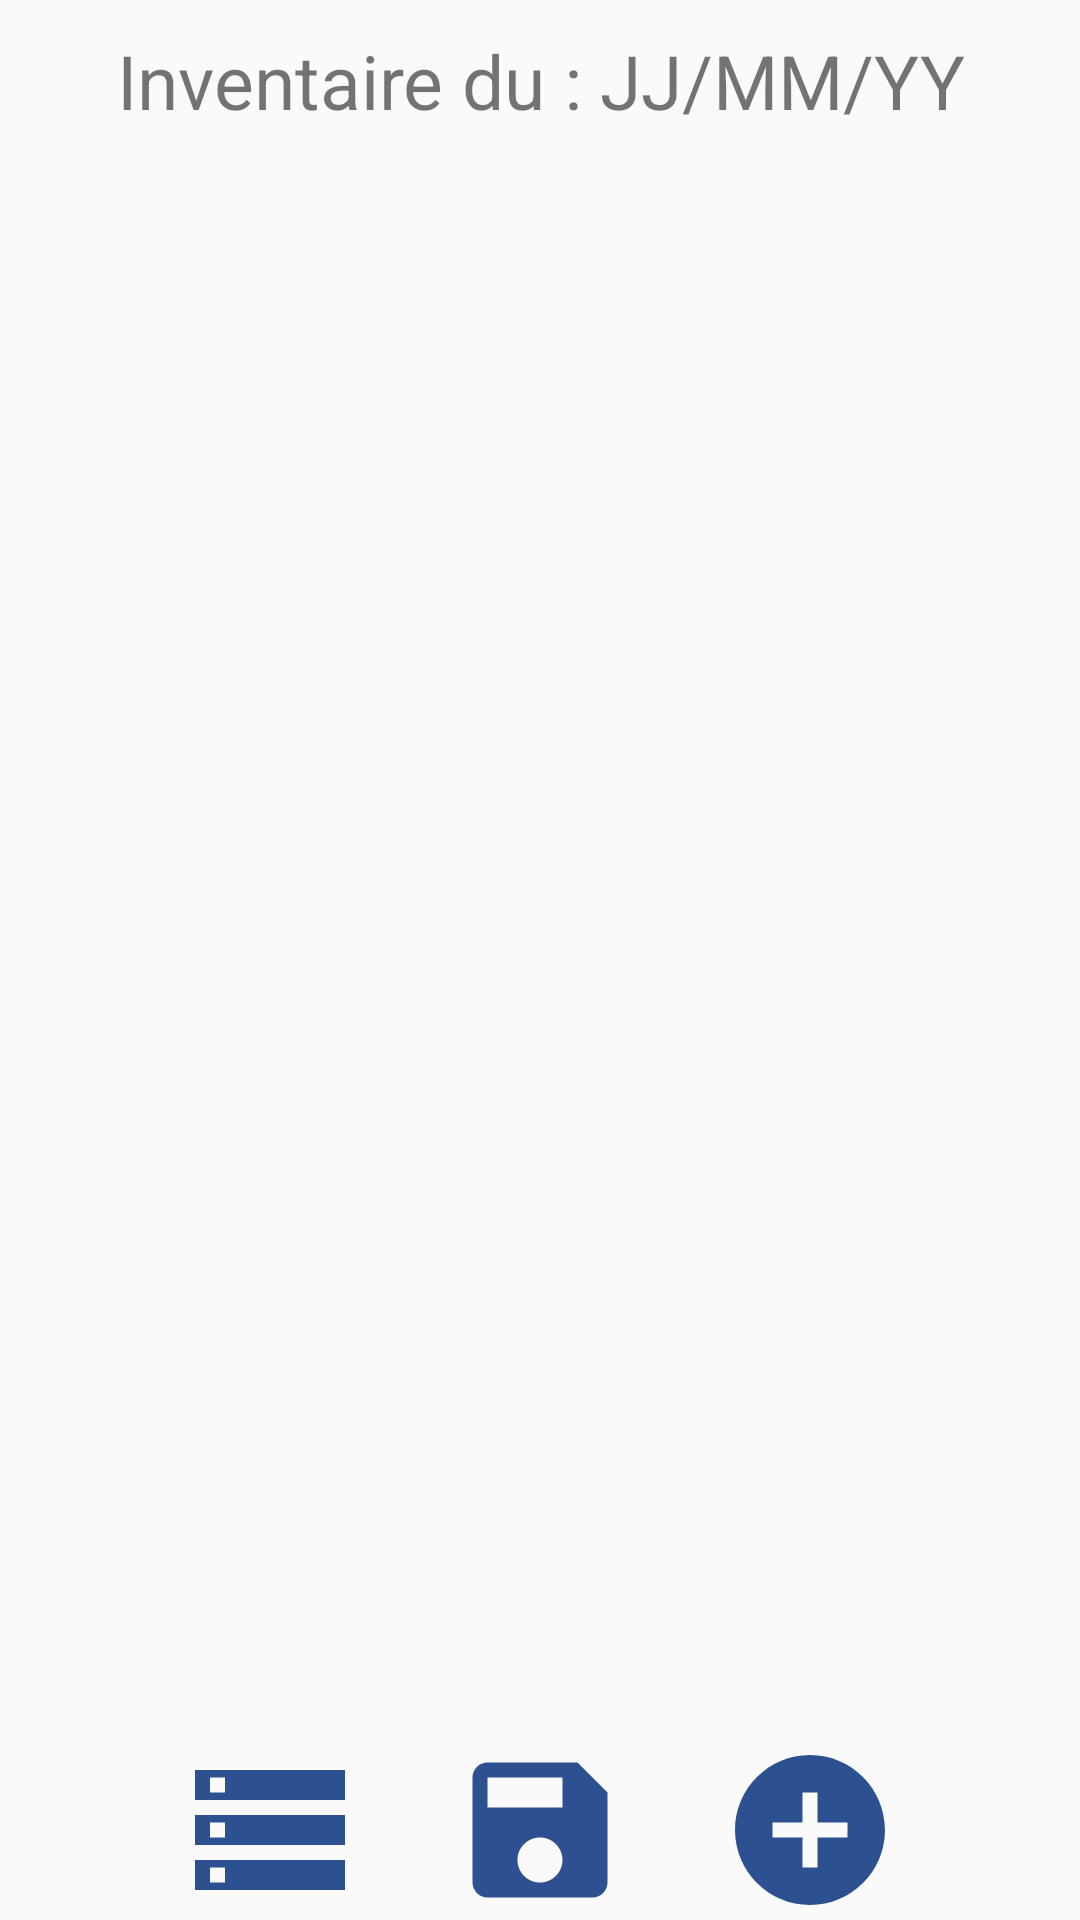

Point at icon controls on the screen. Image size 1080×1920, points as point (x, y).
add circle: point (810, 1830)
save: point (540, 1830)
storage: point (270, 1830)
